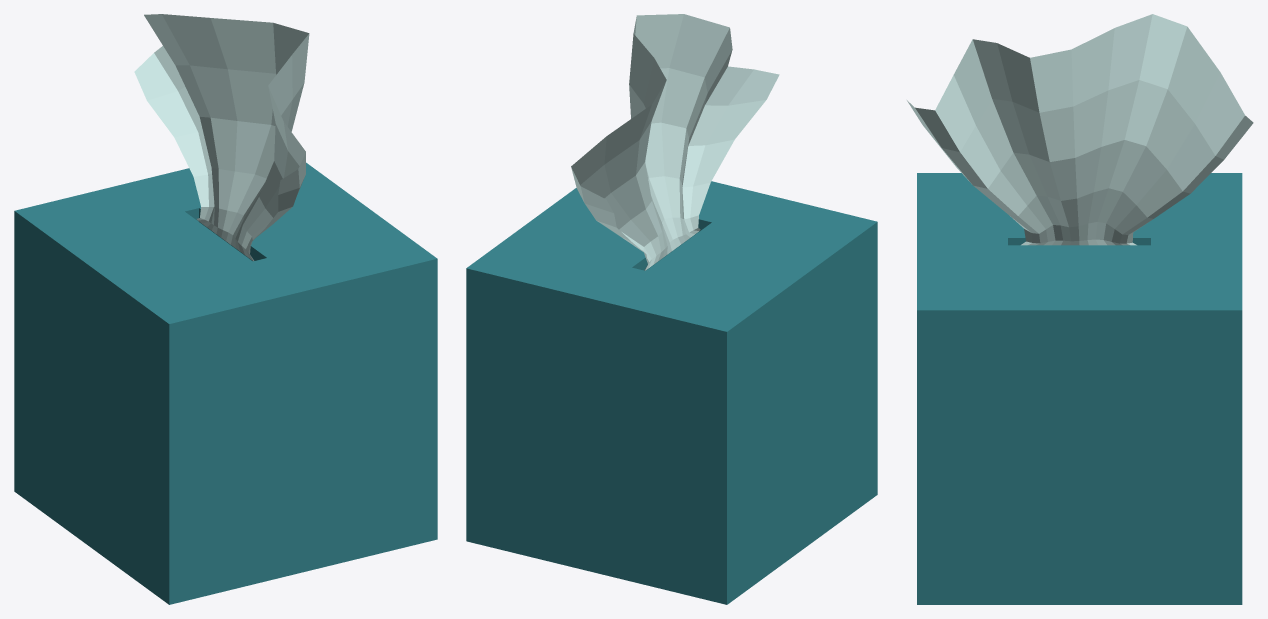
File: tissuebox_modelingfbx.fbx
The picture shows the model from 3 angles, left to right: view 1: azimuth 30°, elevation 25°; view 2: azimuth 150°, elevation 25°; view 3: azimuth 270°, elevation 25°; orthographic projection. The views are drawn at different scales.
Visible parts, largest first — view 1: tissuebox_modelingfbx; view 2: tissuebox_modelingfbx; view 3: tissuebox_modelingfbx.
Part boxes in pixels (x1,y1,x2,y2): tissuebox_modelingfbx: (14, 14, 437, 604); tissuebox_modelingfbx: (466, 14, 877, 604); tissuebox_modelingfbx: (907, 14, 1253, 604).
Size of the model in its own units: 631 by 1091 by 675.
